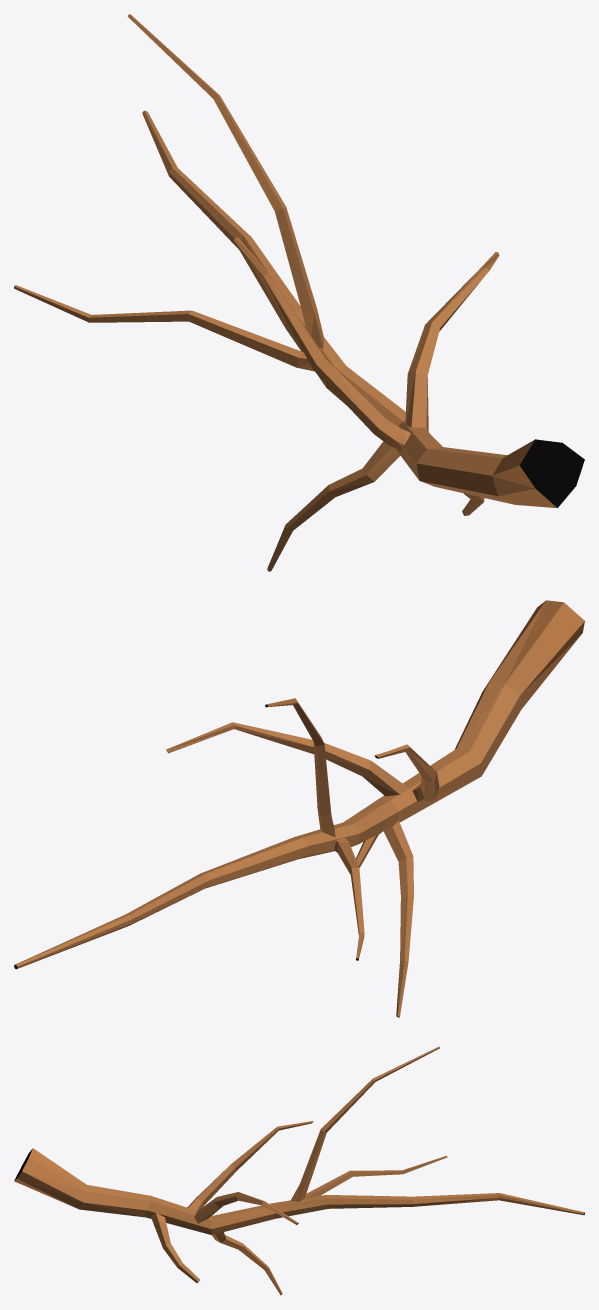
Rendered from treeBranch.glb.
3 views of the same model, one above another, from view 1: azimuth 30°, elevation 25°; view 2: azimuth 150°, elevation 25°; view 3: azimuth 270°, elevation 25° (orthographic). The views are drawn at different scales.
Visible parts, largest first — view 1: Branch_3a; view 2: Branch_3a; view 3: Branch_3a.
Boxes of the visible parts, bbox=[...] form: Branch_3a: bbox=[14, 14, 584, 571]; Branch_3a: bbox=[14, 600, 584, 1017]; Branch_3a: bbox=[14, 1046, 584, 1295].
Bounding box in the file's own units: 0.7022 × 0.8681 × 1.8.
Materials: 1 (1 with a texture image).
